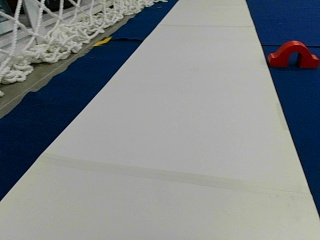bridge: (270, 41, 318, 66)
